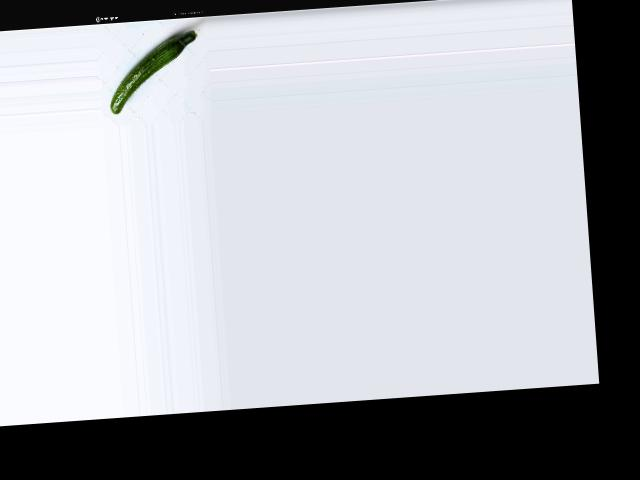cucumber: (106, 30, 203, 114)
